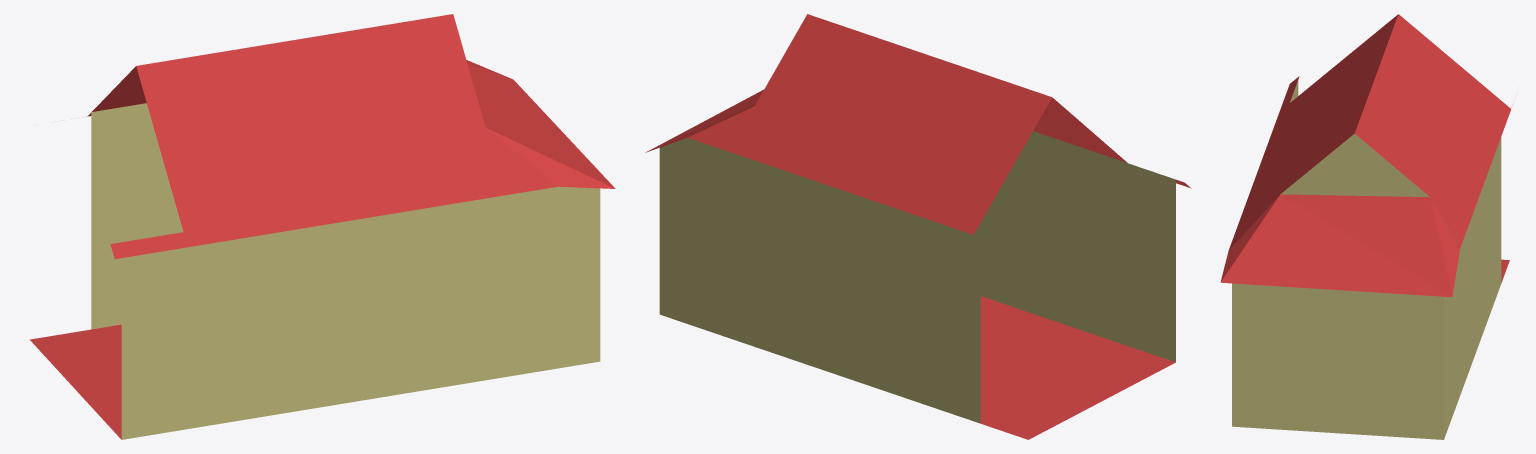
3 renders of one model, left to right at view 1: azimuth 30°, elevation 25°; view 2: azimuth 150°, elevation 25°; view 3: azimuth 270°, elevation 25°, orthographic. The views are drawn at different scales.
Bounding box in the file's own units: 23.87 × 14.93 × 14.38.
